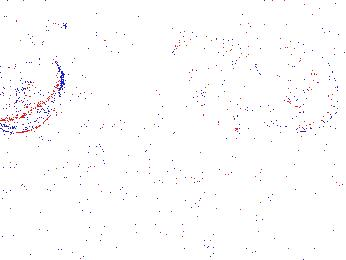moon jellyfish: (241, 37, 340, 133), (173, 38, 265, 103), (1, 47, 61, 134), (75, 101, 167, 151)
